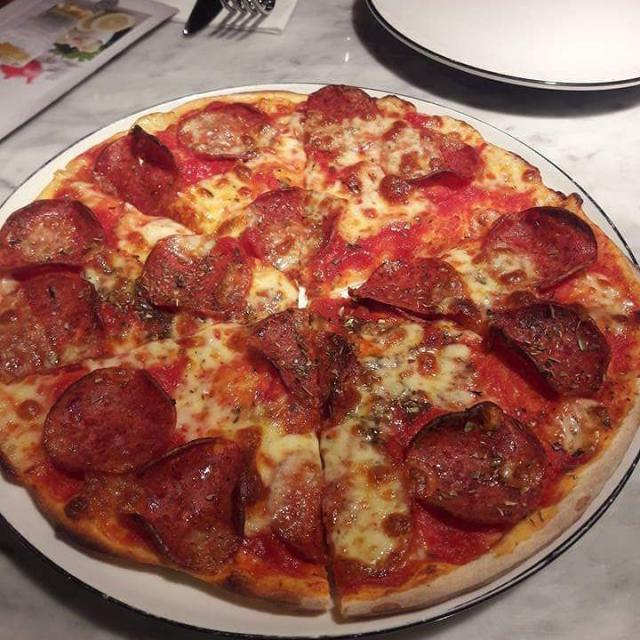pepperoni: (129, 430, 255, 575), (401, 401, 547, 523), (41, 364, 180, 480), (234, 304, 364, 416), (3, 276, 113, 384), (134, 225, 257, 319), (234, 188, 352, 284), (477, 201, 598, 293), (345, 249, 483, 323), (2, 196, 106, 282), (97, 127, 181, 206), (174, 100, 272, 166), (386, 124, 477, 194), (302, 84, 379, 130)
pizza: (0, 85, 640, 619)
